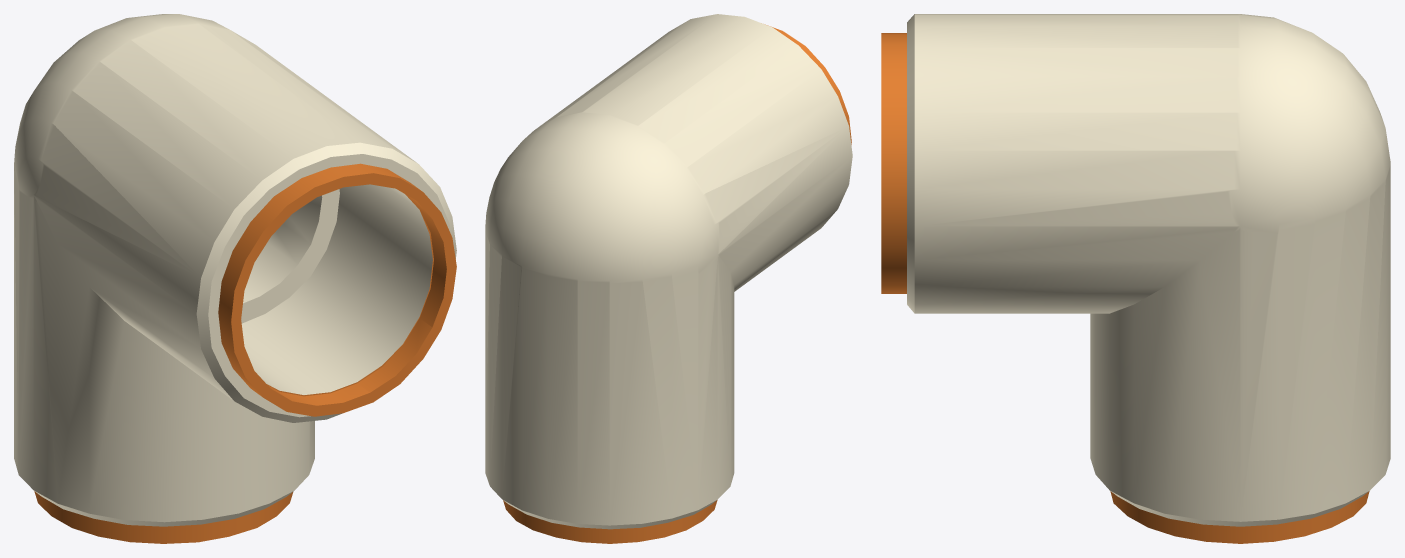
Rendered from pipes_supply__water_heater__c3867b7c__r4y.glb.
The picture shows the model from 3 angles, left to right: view 1: azimuth 30°, elevation 25°; view 2: azimuth 150°, elevation 25°; view 3: azimuth 270°, elevation 25°; orthographic projection. The views are drawn at different scales.
Visible parts, largest first — view 1: fit_elbow_pipe_supply_cold_chase.902; view 2: fit_elbow_pipe_supply_cold_chase.902; view 3: fit_elbow_pipe_supply_cold_chase.902.
Boxes of the visible parts, x1,y1,x2,y2 form: fit_elbow_pipe_supply_cold_chase.902: [14, 14, 456, 543]; fit_elbow_pipe_supply_cold_chase.902: [485, 14, 852, 543]; fit_elbow_pipe_supply_cold_chase.902: [881, 14, 1390, 543].
Size of the model in its own units: 0.0286 by 0.0485 by 0.0485.
